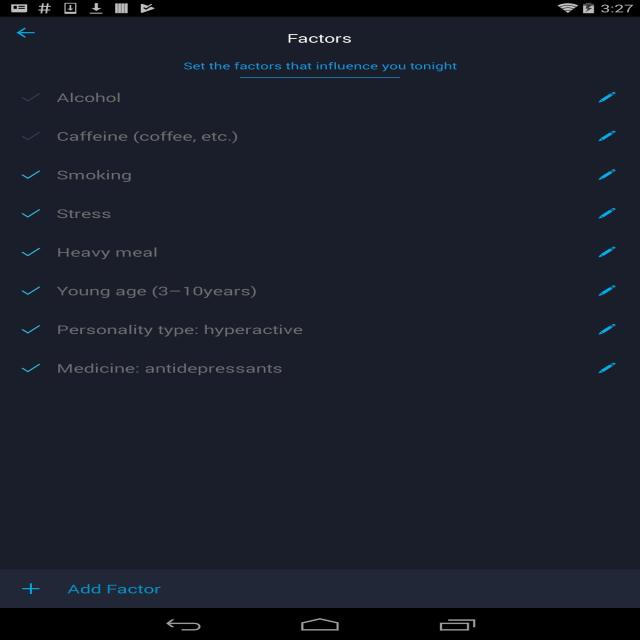button: (5, 572, 638, 604), (11, 579, 52, 598), (594, 125, 620, 144), (594, 165, 622, 182), (596, 88, 619, 108), (598, 242, 618, 263), (15, 25, 40, 41), (596, 283, 620, 299), (597, 361, 622, 376), (597, 205, 619, 222), (597, 320, 617, 336)
heading: (285, 32, 358, 46)
image: (22, 283, 46, 299), (19, 321, 44, 336), (20, 92, 46, 106), (22, 247, 48, 260), (18, 130, 44, 142), (22, 361, 44, 374), (20, 170, 44, 180), (21, 208, 43, 218)
text: (182, 59, 460, 79), (54, 322, 308, 340), (55, 361, 294, 378), (55, 128, 240, 148), (55, 284, 259, 301), (63, 581, 164, 598), (55, 245, 162, 259), (53, 168, 134, 184), (56, 90, 127, 106), (54, 208, 118, 222)
